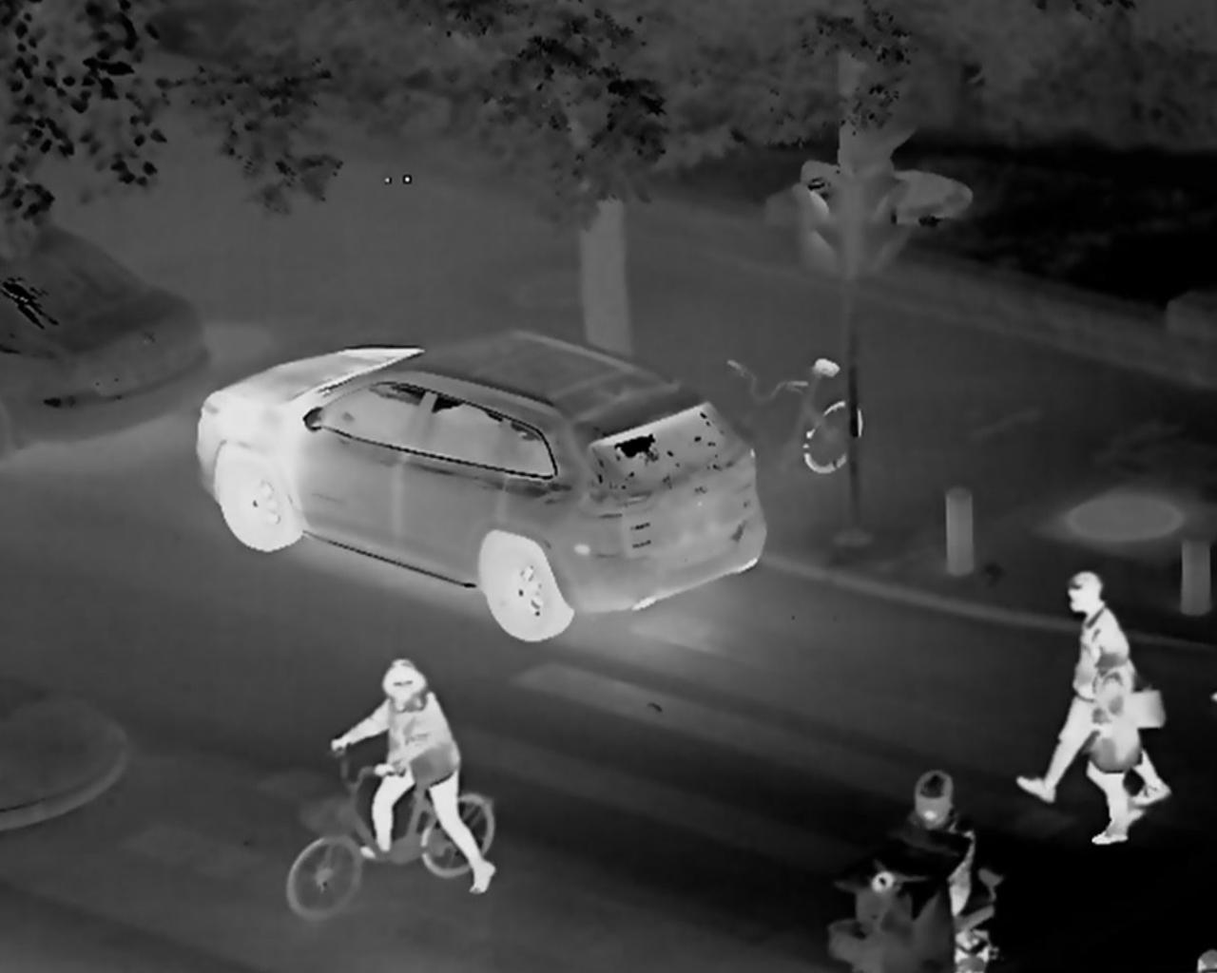person: (329, 657, 500, 895), (1021, 564, 1174, 808), (868, 769, 976, 973), (1083, 631, 1141, 853)
